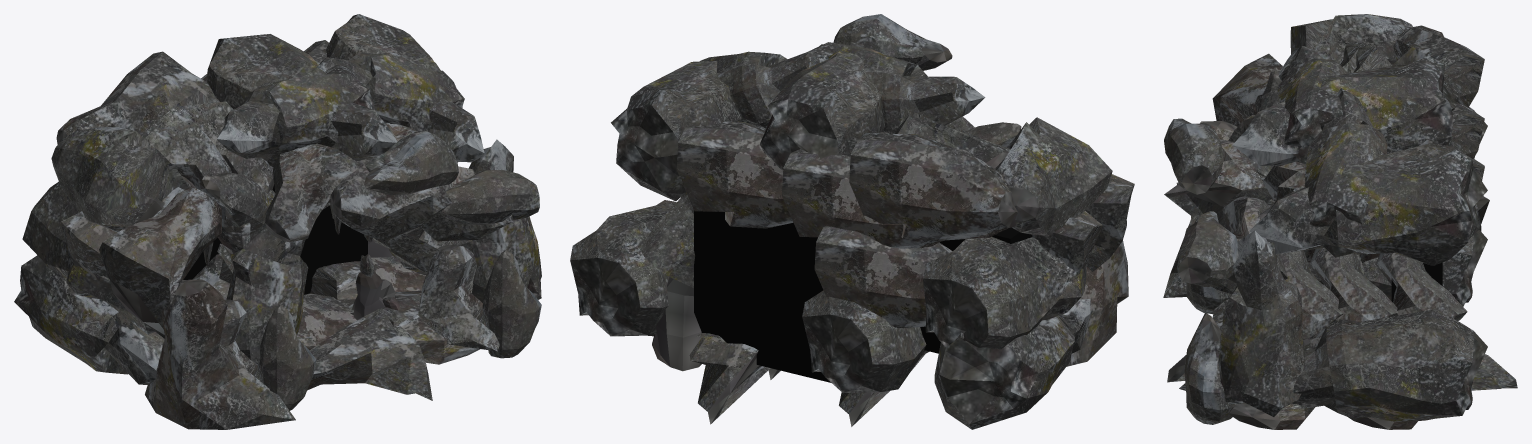
The model's file is cave.glb.
3 views of the same model, side by side, from view 1: azimuth 30°, elevation 25°; view 2: azimuth 150°, elevation 25°; view 3: azimuth 270°, elevation 25° (orthographic). The views are drawn at different scales.
Parts seen in each view (by area): view 1: polySurface8 (×2); view 2: polySurface8 (×2); view 3: polySurface8 (×2).
Boxes of the visible parts, x1=… form: polySurface8 (×2): x1=14, y1=14, x2=541, y2=429; polySurface8 (×2): x1=570, y1=14, x2=1134, y2=429; polySurface8 (×2): x1=1163, y1=14, x2=1517, y2=429.
Size of the model in its own units: 2 by 1.28 by 1.39.
2 materials, 2 textured.
